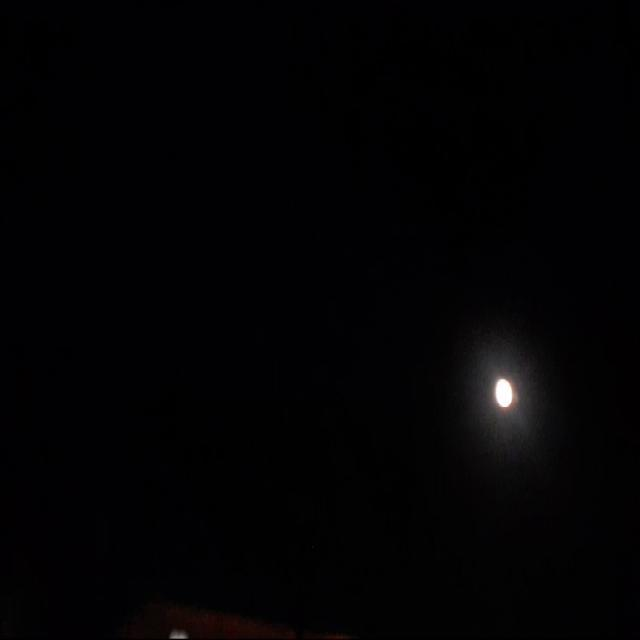moon: (491, 377, 514, 410)
